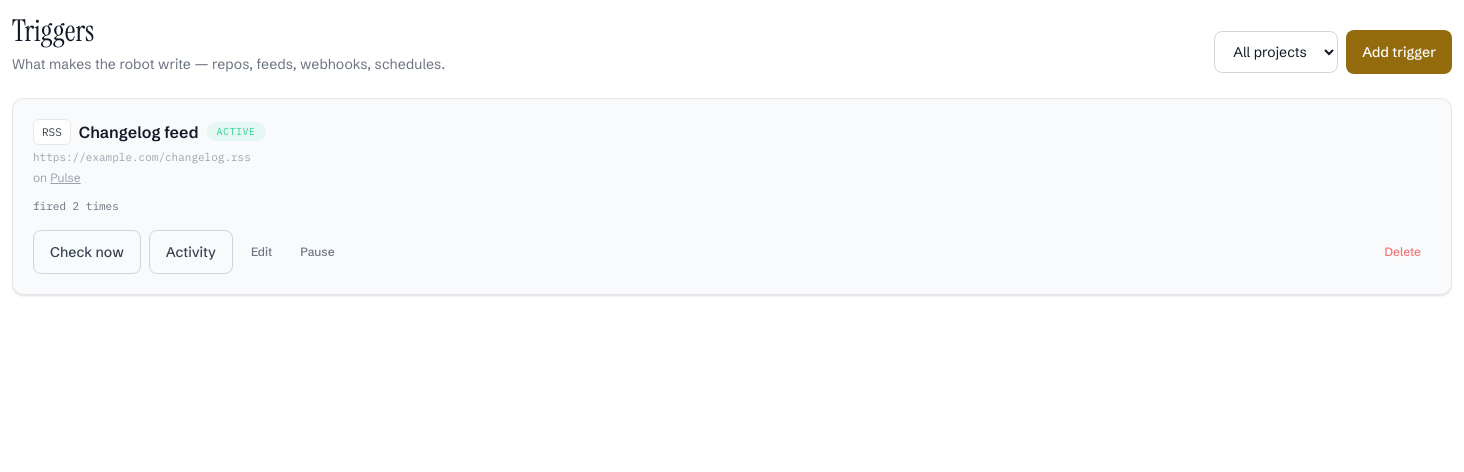
Test: activity › lists firings and links the draft one produced
Click the button "Activity" at (191, 252), box [149,230,233,274]
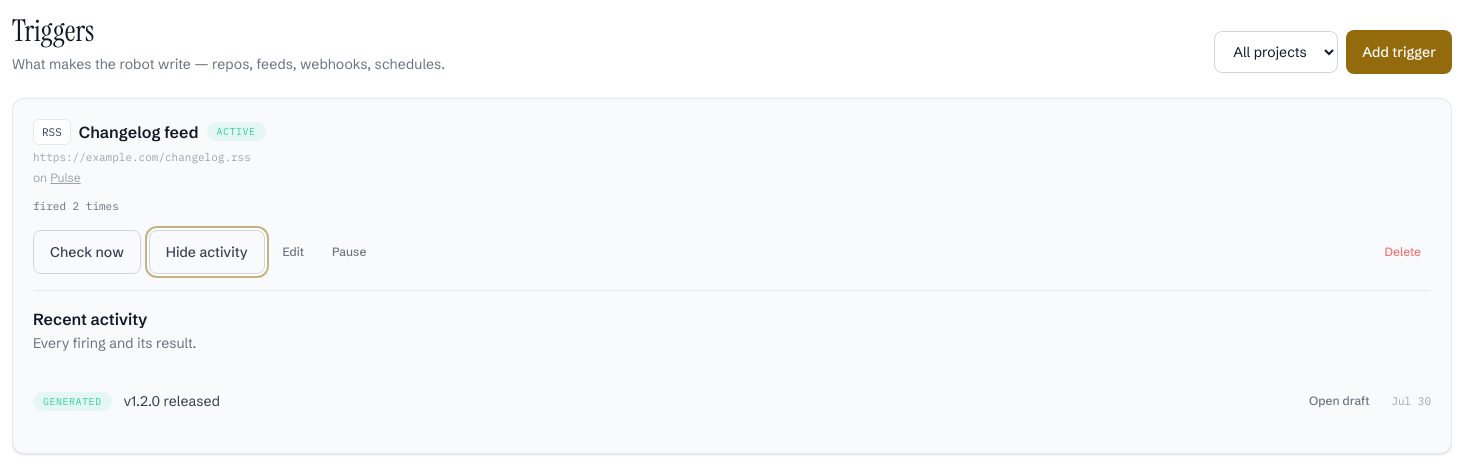
Now the text "v1.2.0 released" is shown, box [124,392,220,410]
